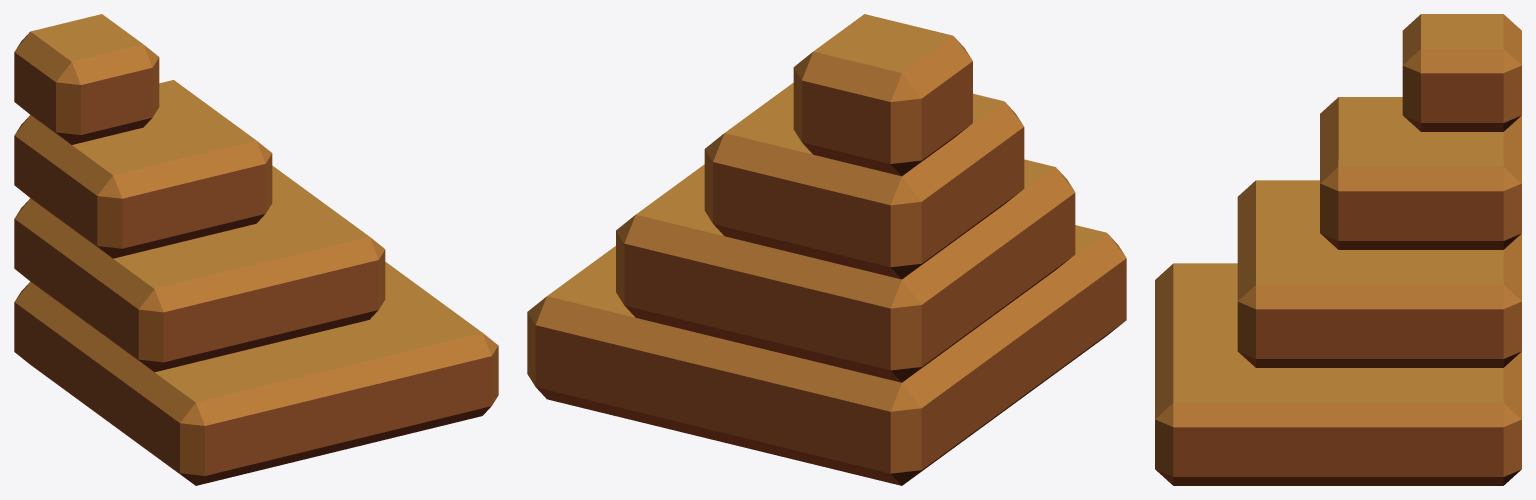
Rendered from m_kub_wood_stairs_piled_cornerOut.FBX.
The picture shows the model from 3 angles, left to right: view 1: azimuth 30°, elevation 25°; view 2: azimuth 150°, elevation 25°; view 3: azimuth 270°, elevation 25°; orthographic projection. The views are drawn at different scales.
Visible parts, largest first — view 1: m_kub_wood_stairs_piled_cornerOut; view 2: m_kub_wood_stairs_piled_cornerOut; view 3: m_kub_wood_stairs_piled_cornerOut.
Boxes of the visible parts, bbox=[...] form: m_kub_wood_stairs_piled_cornerOut: bbox=[14, 14, 498, 485]; m_kub_wood_stairs_piled_cornerOut: bbox=[527, 14, 1126, 485]; m_kub_wood_stairs_piled_cornerOut: bbox=[1155, 14, 1521, 485].
Bounding box in the file's own units: 2 × 2 × 2.
